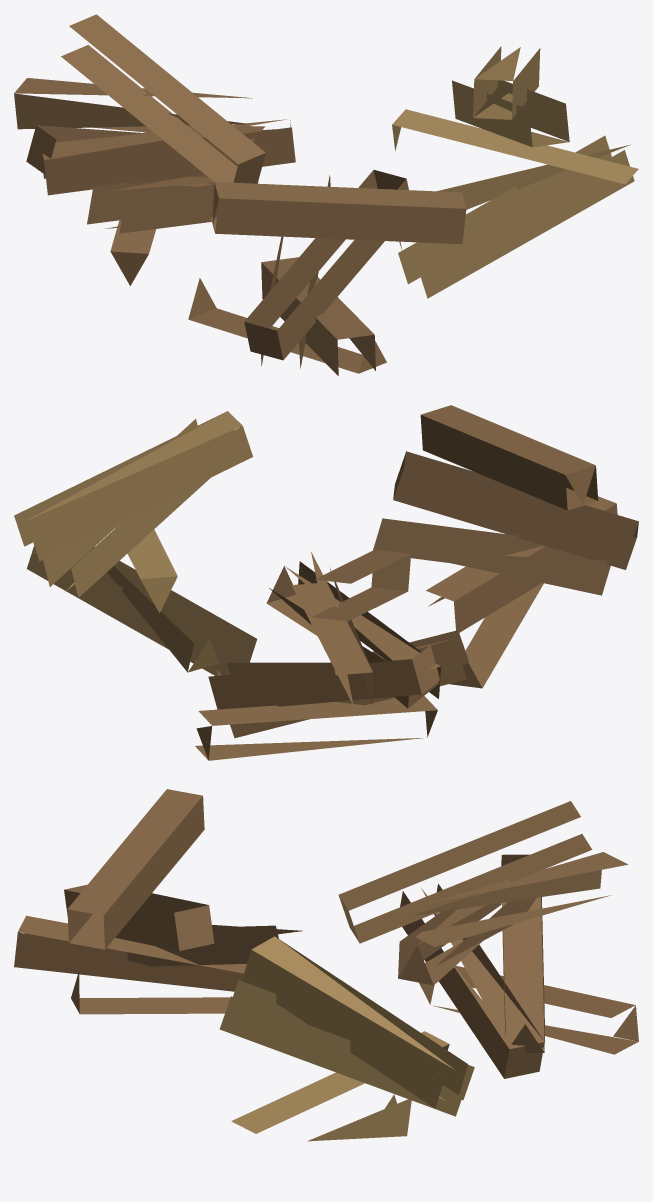
The model's file is prop_gamcho_pile_lod1.glb.
The picture shows the model from 3 angles, top to bottom: view 1: azimuth 30°, elevation 25°; view 2: azimuth 150°, elevation 25°; view 3: azimuth 270°, elevation 25°; orthographic projection. The views are drawn at different scales.
Visible parts, largest first — view 1: prop_gamcho_pile_lod1; view 2: prop_gamcho_pile_lod1; view 3: prop_gamcho_pile_lod1.
Part boxes in pixels (bbox=[...]): prop_gamcho_pile_lod1: bbox=[14, 14, 638, 375]; prop_gamcho_pile_lod1: bbox=[14, 405, 638, 760]; prop_gamcho_pile_lod1: bbox=[14, 789, 638, 1141].
Size of the model in its own units: 0.368 by 0.1672 by 0.3968.
